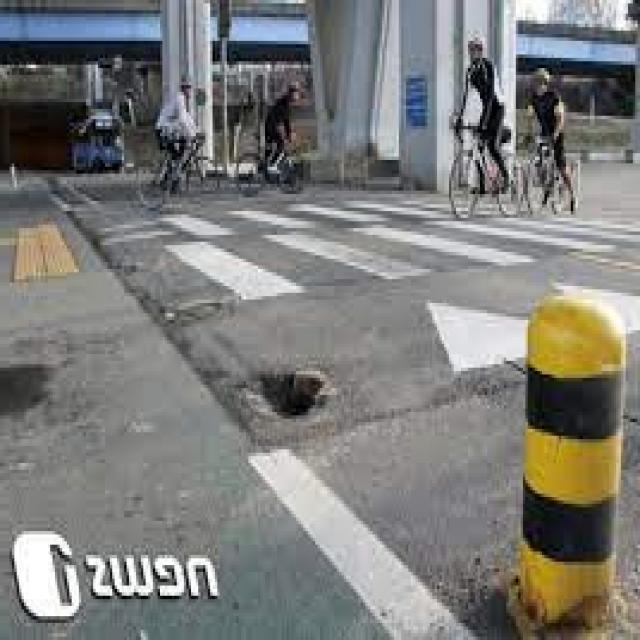bollard: (491, 278, 634, 638)
